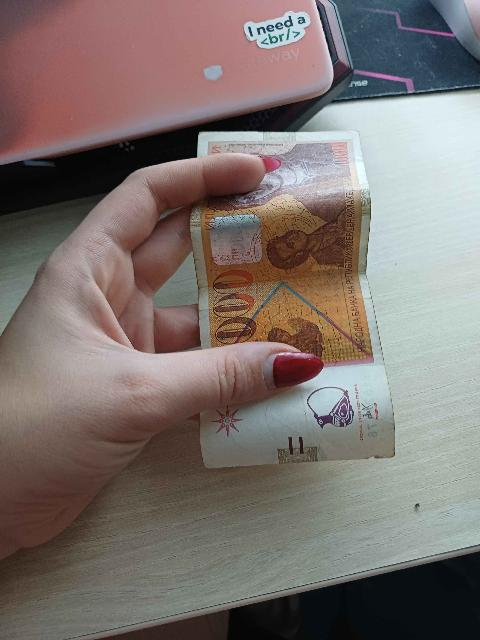note: (188, 132, 400, 465)
